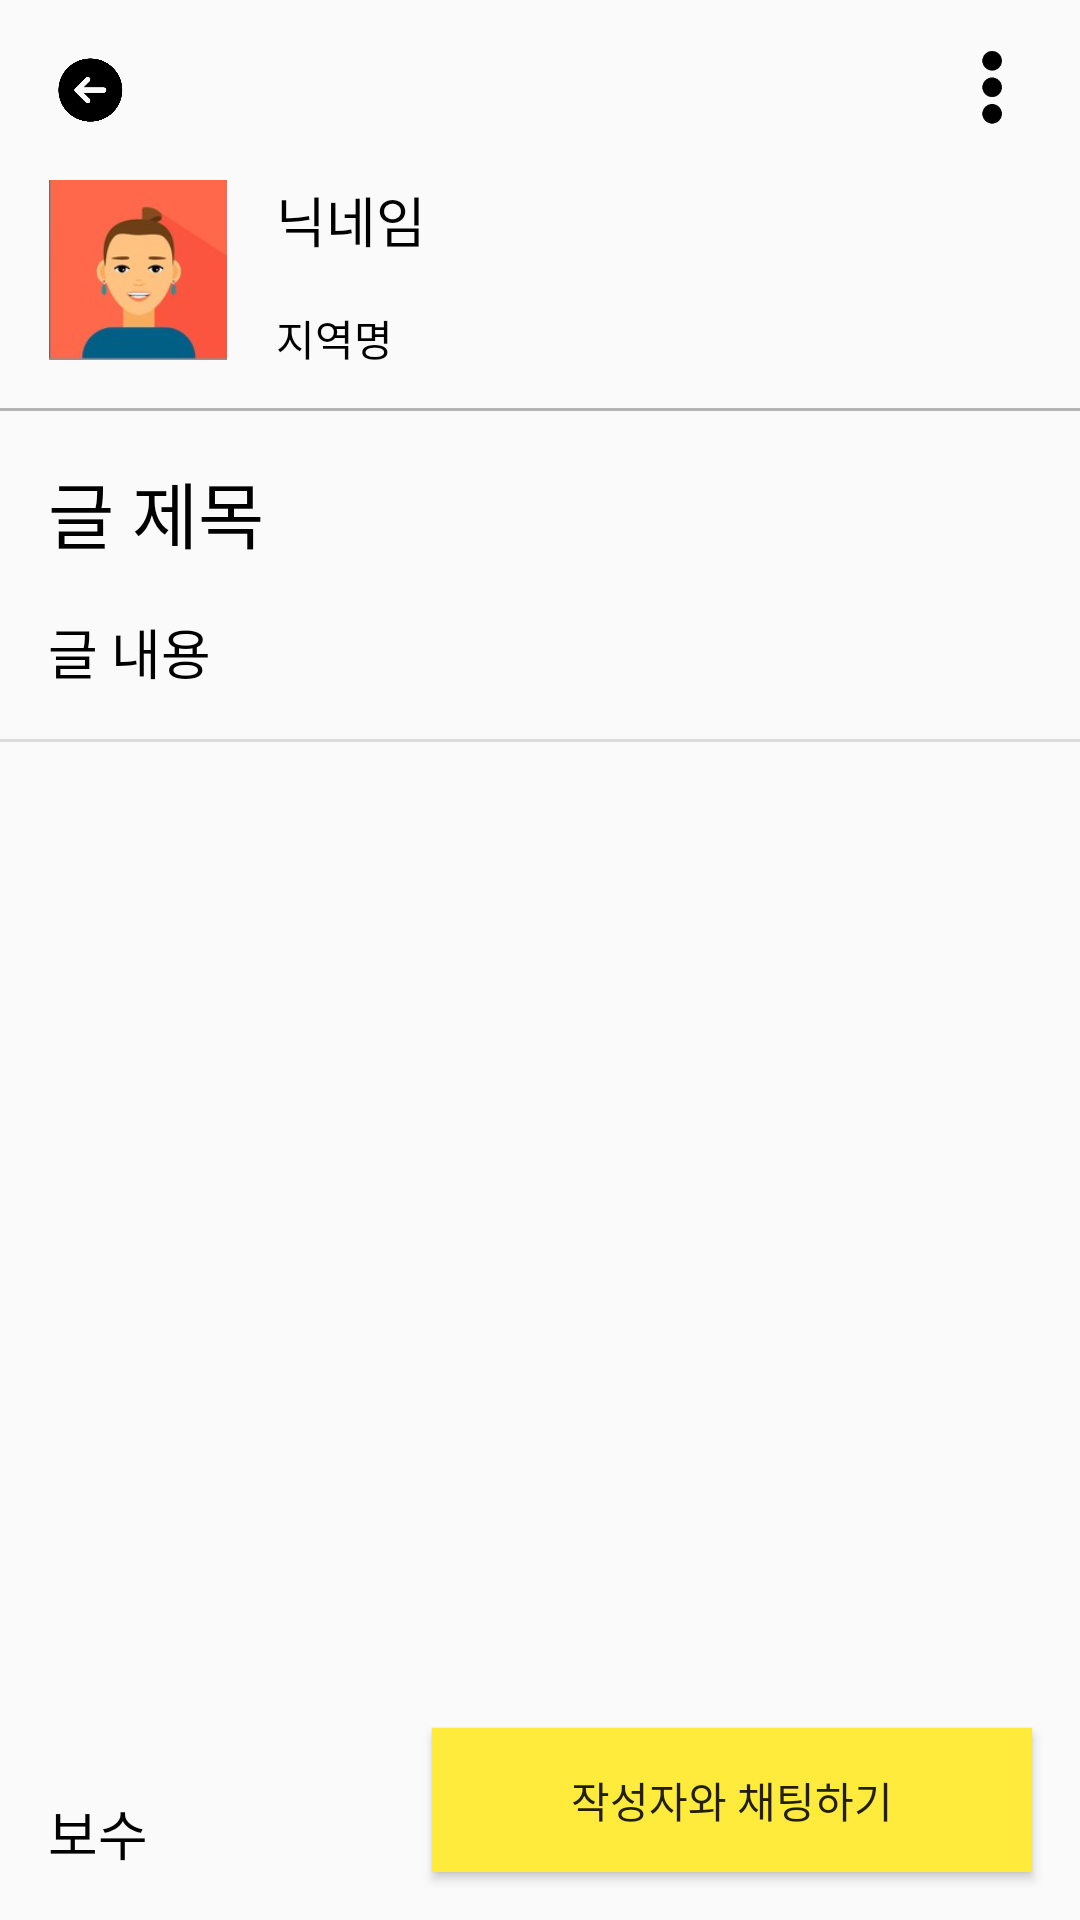

Named icons in this screenshot (1080*1920) and their bounding boxes, (x1=x1, y1=y1, x2=x2, y2=y2):
goback: (x1=58, y1=58, x2=122, y2=122)
more: (x1=982, y1=51, x2=1002, y2=124)
